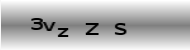3: (30, 17, 43, 30)
S: (113, 22, 128, 35)
Z: (84, 21, 100, 36)
v: (43, 22, 56, 31)
z: (56, 27, 69, 38)
